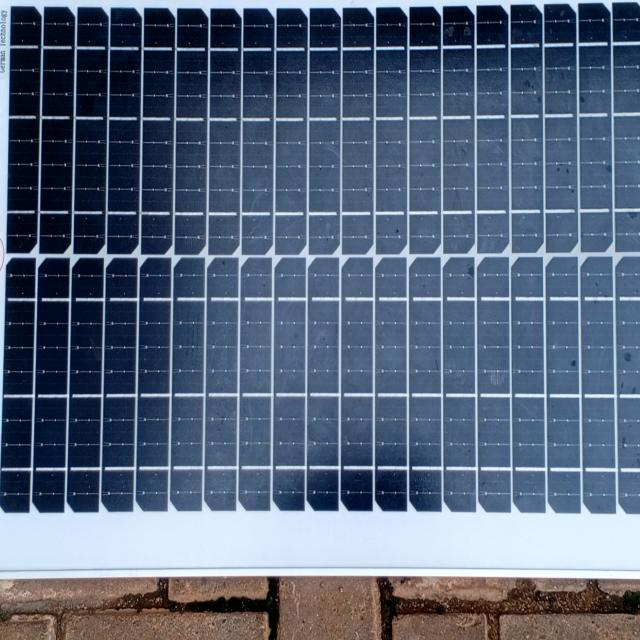Clean: (7, 13, 640, 535)
